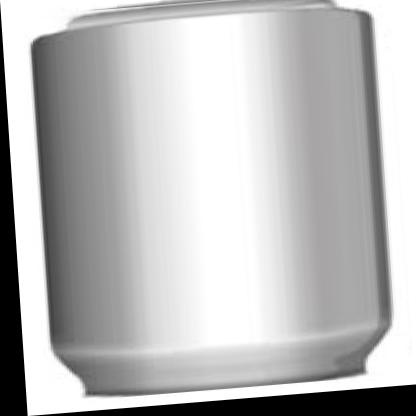trash: (32, 0, 389, 394)
